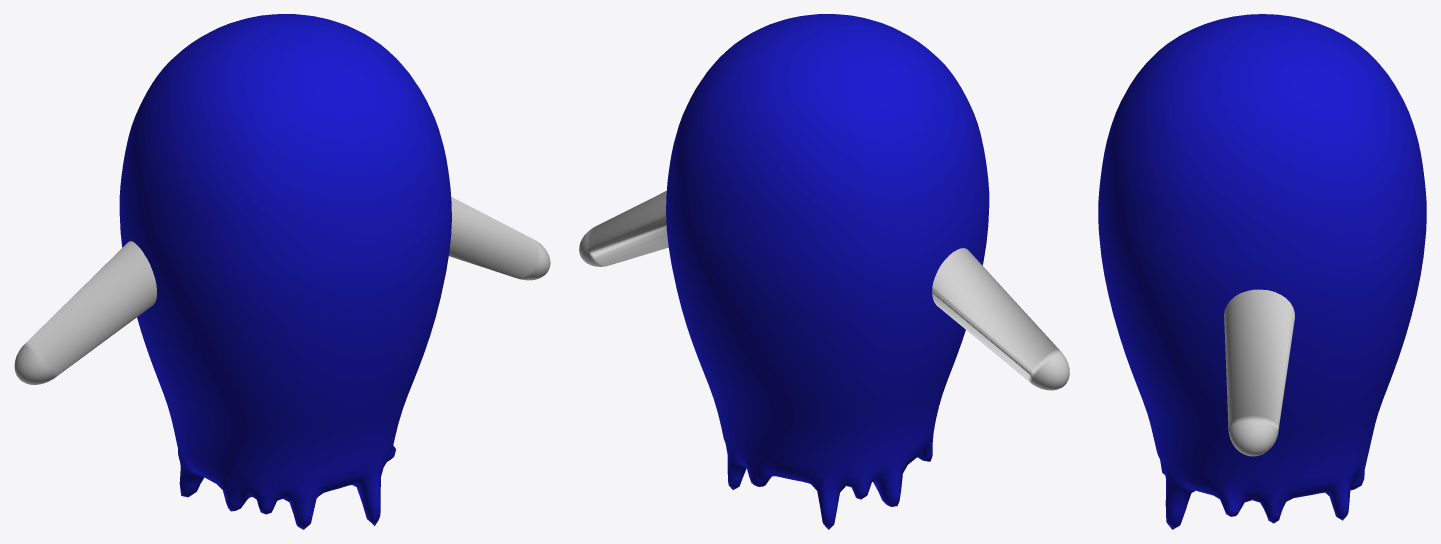
Rendered from beforeThrow_00004.obj.
The picture shows the model from 3 angles, left to right: view 1: azimuth 30°, elevation 25°; view 2: azimuth 150°, elevation 25°; view 3: azimuth 270°, elevation 25°; orthographic projection. The views are drawn at different scales.
Visible parts, largest first — view 1: Cube, Sphere.001, Sphere; view 2: Cube, Sphere.001, Sphere; view 3: Cube, Sphere.
Boxes of the visible parts, <box> form: Cube: <box>119,14,451,529</box>; Sphere.001: <box>14,241,156,384</box>; Sphere: <box>449,197,550,280</box>; Cube: <box>666,14,989,529</box>; Sphere.001: <box>932,248,1069,390</box>; Sphere: <box>579,191,668,266</box>; Cube: <box>1098,14,1426,529</box>; Sphere: <box>1224,289,1294,456</box>.
Bounding box in the file's own units: 0.5205 × 0.4583 × 0.2859.
